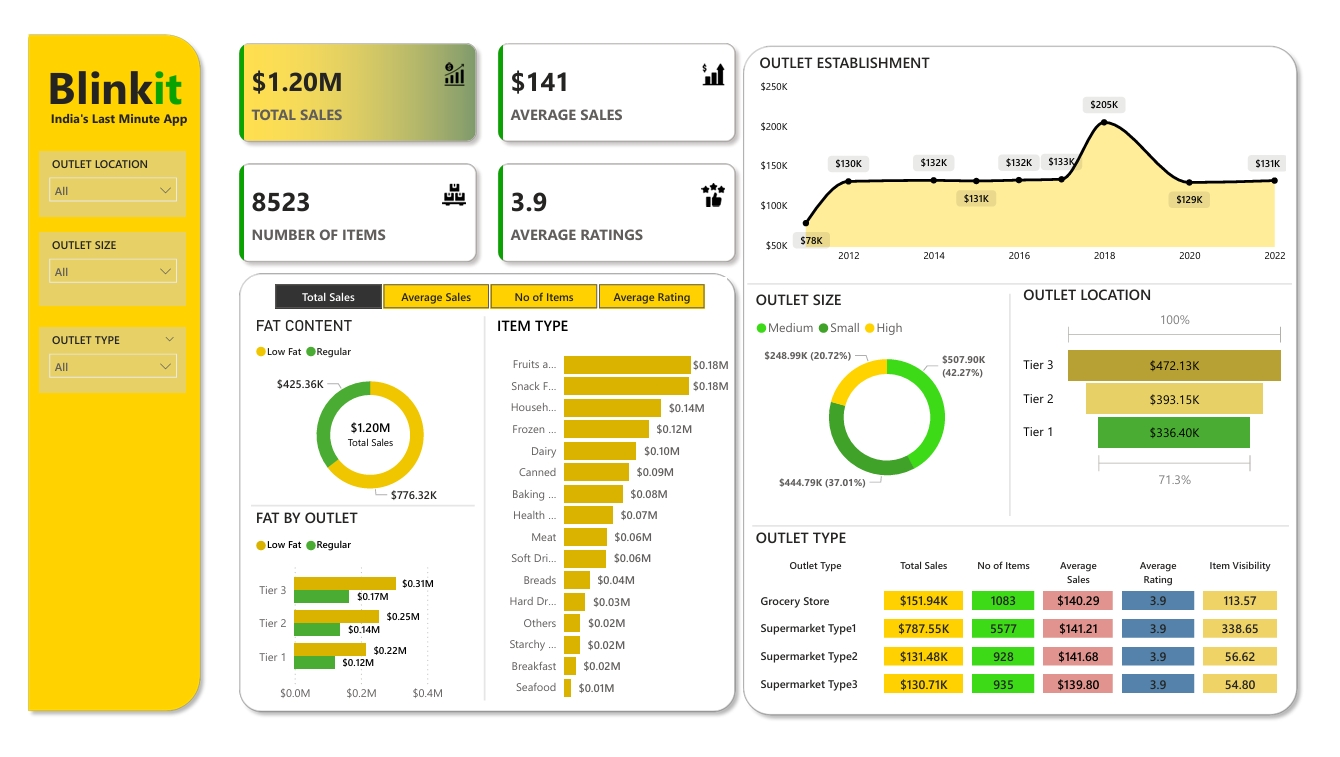

The dashboard page shown, as its layout file describes it:
{"tool":"powerbi","page":{"name":"Page 1","canvas":[1400,800],"ordinal":0},"visuals":[{"type":"shape","box":[0,24.9,203.8,749],"z":0},{"type":"textbox","box":[13.2,51.6,178.6,87.3],"z":1000},{"type":"textbox","box":[21.8,108.9,171.1,37.3],"z":2000},{"type":"cardVisual","fields":{"Data":["BlinkIT Grocery Data.Total Sales","BlinkIT Grocery Data.Average Sales","BlinkIT Grocery Data.No of Items","BlinkIT Grocery Data.Average Rating"]},"box":[220,25,570,270],"z":3000},{"type":"shape","box":[229,283,553.8,491.6],"z":4000},{"type":"donutChart","title":"FAT CONTENT","fields":{"Y":["BlinkIT Grocery Data.Total Sales"],"Category":["BlinkIT Grocery Data.Item Fat Content"]},"box":[249.3,338,257,209.9],"z":5000},{"type":"slicer","fields":{"Values":["Metrics.Metrics"]},"box":[249.3,296,514.4,39.5],"z":6000},{"type":"cardVisual","fields":{"Data":["BlinkIT Grocery Data.Total Sales"]},"box":[332,431.2,93.9,68.8],"z":7000},{"type":"clusteredBarChart","title":"FAT BY OUTLET","fields":{"Y":["BlinkIT Grocery Data.Total Sales"],"Category":["BlinkIT Grocery Data.Outlet Location Type"],"Series":["BlinkIT Grocery Data.Item Fat Content"]},"box":[249.3,544.4,219.3,219.3],"z":8000},{"type":"shape","box":[490.8,337.7,23.7,415],"z":9000},{"type":"shape","box":[249.3,534.9,241.4,14.2],"z":10000},{"type":"barChart","title":"ITEM TYPE","fields":{"Y":["BlinkIT Grocery Data.Total Sales"],"Category":["BlinkIT Grocery Data.Item Type"]},"box":[511.3,336.1,260.4,426.1],"z":11000},{"type":"shape","box":[773.3,36.7,616.7,741.1],"z":12000},{"type":"lineChart","title":"OUTLET ESTABLISHMENT","fields":{"Y":["BlinkIT Grocery Data.Total Sales"],"Category":["BlinkIT Grocery Data.Outlet Establishment Year"]},"box":[795.1,52.5,578.7,236.1],"z":13000},{"type":"shape","box":[786.9,291.8,588.5,21.3],"z":14000},{"type":"donutChart","title":"OUTLET SIZE","fields":{"Y":["BlinkIT Grocery Data.Total Sales"],"Category":["BlinkIT Grocery Data.Outlet Size"]},"box":[790.2,308.2,293.4,226.2],"z":15000},{"type":"funnel","title":"OUTLET LOCATION","fields":{"Y":["BlinkIT Grocery Data.Total Sales"],"Category":["BlinkIT Grocery Data.Outlet Location Type"]},"box":[1080.3,303.3,293,226],"z":16000},{"type":"shape","box":[1059,313.1,21.3,240],"z":17000},{"type":"shape","box":[791.8,552.5,580.3,23],"z":18000},{"type":"pivotTable","title":"OUTLET TYPE","fields":{"Rows":["BlinkIT Grocery Data.Outlet Type"],"Values":["BlinkIT Grocery Data.Total Sales","BlinkIT Grocery Data.No of Items","BlinkIT Grocery Data.Average Sales","BlinkIT Grocery Data.Average Rating","Sum(BlinkIT Grocery Data.Item Visibility)"]},"box":[790.5,566.4,597.8,231.4],"z":19000},{"type":"slicer","fields":{"Values":["BlinkIT Grocery Data.Outlet Location Type"]},"box":[22.1,159.4,157.8,71],"z":20000},{"type":"slicer","fields":{"Values":["BlinkIT Grocery Data.Outlet Size"]},"box":[22.1,247.7,157.8,80.5],"z":20001},{"type":"slicer","fields":{"Values":["BlinkIT Grocery Data.Outlet Type"]},"box":[22.1,350.3,157.8,71],"z":20002}]}

Visuals, with their boxes in screenshot pixels (x1, y1, x2, y2), scaled from the page's 1400x800 canvas onto the 1340x757 screenshot:
shape: {"left": 0, "top": 24, "right": 195, "bottom": 732}
textbox: {"left": 13, "top": 49, "right": 184, "bottom": 131}
textbox: {"left": 21, "top": 103, "right": 185, "bottom": 138}
cardVisual - BlinkIT Grocery Data.Total Sales x BlinkIT Grocery Data.Average Sales: {"left": 211, "top": 24, "right": 756, "bottom": 279}
shape: {"left": 219, "top": 268, "right": 749, "bottom": 733}
"FAT CONTENT" donutChart: {"left": 239, "top": 320, "right": 485, "bottom": 518}
slicer - Metrics.Metrics: {"left": 239, "top": 280, "right": 731, "bottom": 317}
cardVisual - BlinkIT Grocery Data.Total Sales: {"left": 318, "top": 408, "right": 408, "bottom": 473}
"FAT BY OUTLET" clusteredBarChart: {"left": 239, "top": 515, "right": 449, "bottom": 723}
shape: {"left": 470, "top": 320, "right": 492, "bottom": 712}
shape: {"left": 239, "top": 506, "right": 470, "bottom": 520}
"ITEM TYPE" barChart: {"left": 489, "top": 318, "right": 739, "bottom": 721}
shape: {"left": 740, "top": 35, "right": 1330, "bottom": 736}
"OUTLET ESTABLISHMENT" lineChart: {"left": 761, "top": 50, "right": 1315, "bottom": 273}
shape: {"left": 753, "top": 276, "right": 1316, "bottom": 296}
"OUTLET SIZE" donutChart: {"left": 756, "top": 292, "right": 1037, "bottom": 506}
"OUTLET LOCATION" funnel: {"left": 1034, "top": 287, "right": 1314, "bottom": 501}
shape: {"left": 1014, "top": 296, "right": 1034, "bottom": 523}
shape: {"left": 758, "top": 523, "right": 1313, "bottom": 545}
"OUTLET TYPE" pivotTable: {"left": 757, "top": 536, "right": 1329, "bottom": 755}
slicer - BlinkIT Grocery Data.Outlet Location Type: {"left": 21, "top": 151, "right": 172, "bottom": 218}
slicer - BlinkIT Grocery Data.Outlet Size: {"left": 21, "top": 234, "right": 172, "bottom": 311}
slicer - BlinkIT Grocery Data.Outlet Type: {"left": 21, "top": 331, "right": 172, "bottom": 399}
